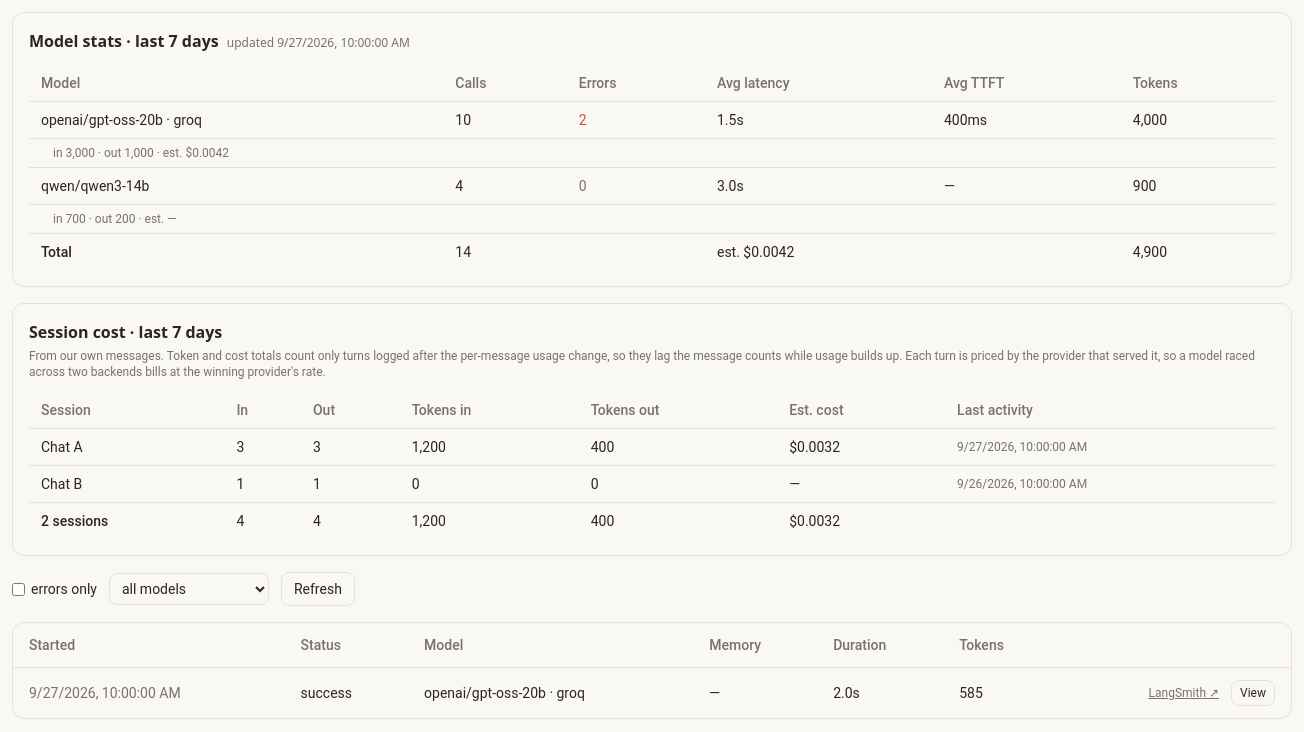
Scenario: AdminLangsmithView (#186) › drills into the run tree and back to the list
The width and height of the screenshot is (1304, 732).
Click the button with test id "langsmith-open-trace-1" at coordinates (1253, 693), box [1231, 680, 1275, 706]
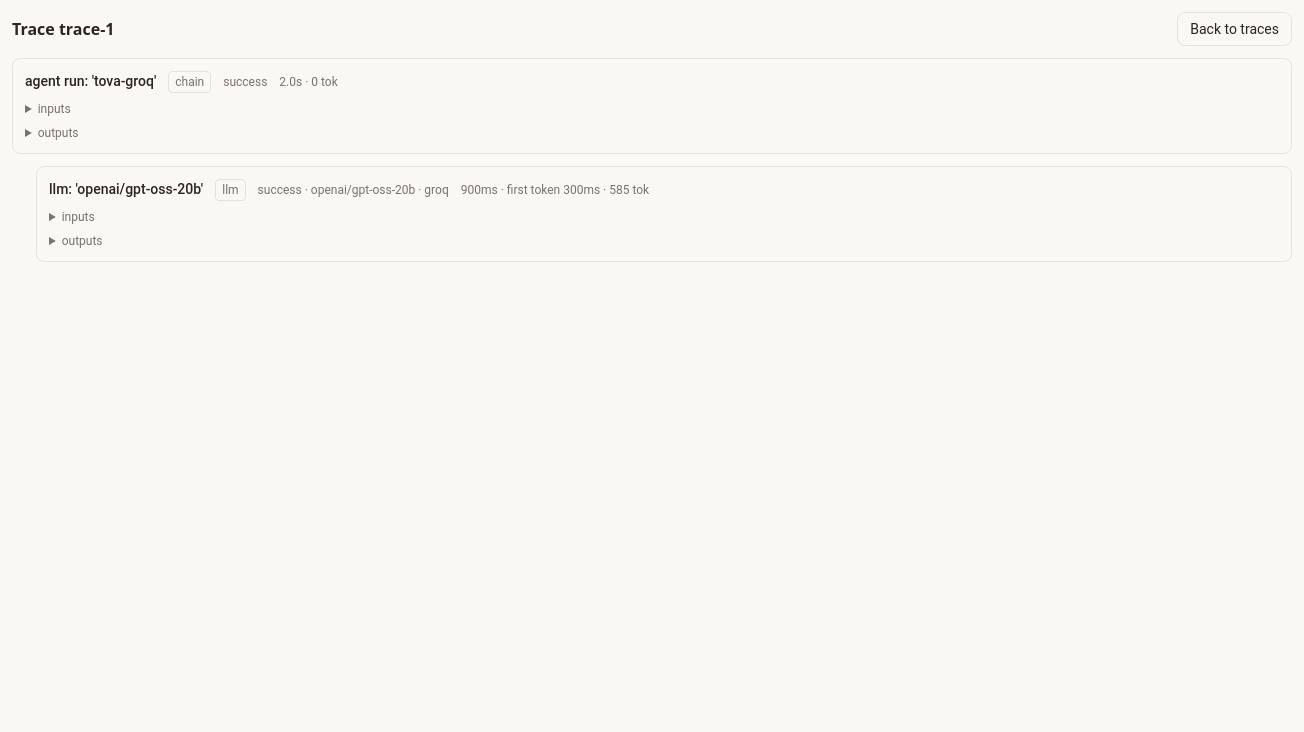
Result: the element with test id "langsmith-trace-detail" shows "agent run: 'tova-groq'" at [25, 73, 156, 89]
Result: the element with test id "langsmith-run-llm-1" shows "llm: 'openai/gpt-oss-20b'" at [49, 181, 203, 197]
Result: the element with test id "langsmith-run-llm-1" shows "openai/gpt-oss-20b · groq" at [36, 166, 1292, 262]
Click the button with test id "langsmith-detail-close" at coordinates (1235, 29), box [1177, 12, 1292, 46]
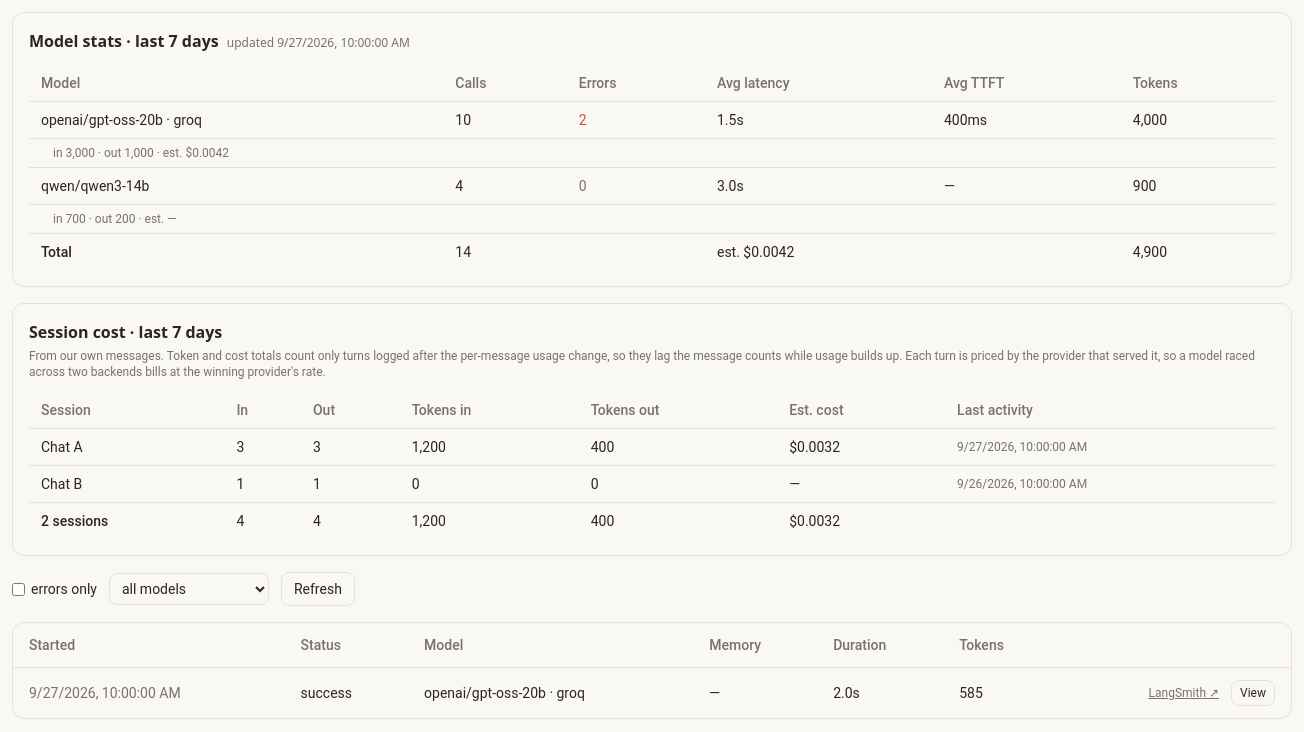
Result: the table with test id "langsmith-traces" is shown at [13, 623, 1291, 718]
